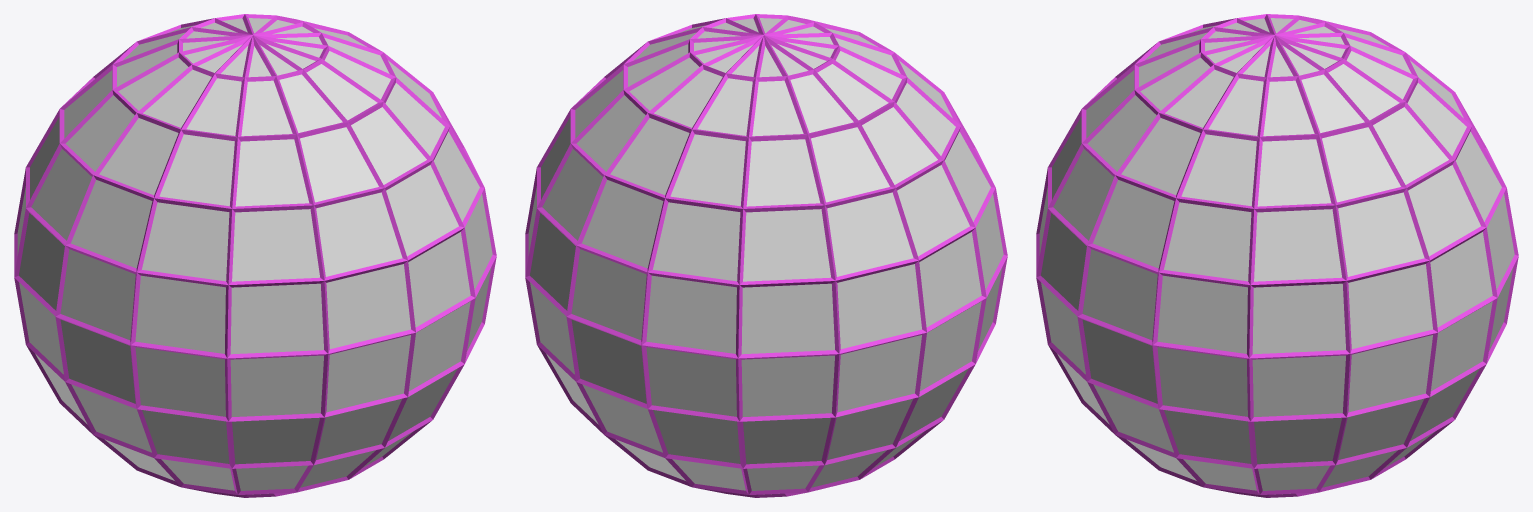
The model's file is controller.fbx.
3 views of the same model, side by side, from view 1: azimuth 30°, elevation 25°; view 2: azimuth 150°, elevation 25°; view 3: azimuth 270°, elevation 25° (orthographic).
Parts seen in each view (by area): view 1: Sphere, Sphere.001; view 2: Sphere, Sphere.001; view 3: Sphere, Sphere.001.
Boxes of the visible parts, <box> form: Sphere: <box>17,18,492,494</box>; Sphere.001: <box>14,14,496,497</box>; Sphere: <box>528,18,1003,494</box>; Sphere.001: <box>525,14,1007,497</box>; Sphere: <box>1039,18,1514,494</box>; Sphere.001: <box>1036,14,1518,497</box>.
Size of the model in its own units: 201 by 202 by 200.
